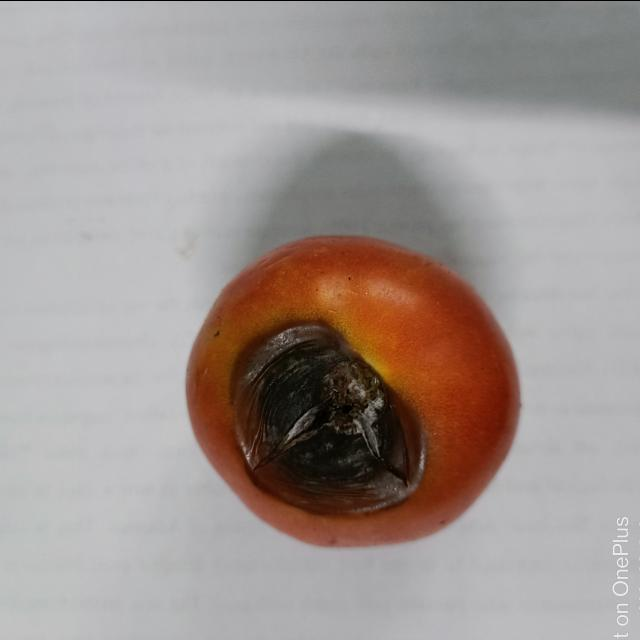Anthrocnose: (229, 316, 432, 520)
